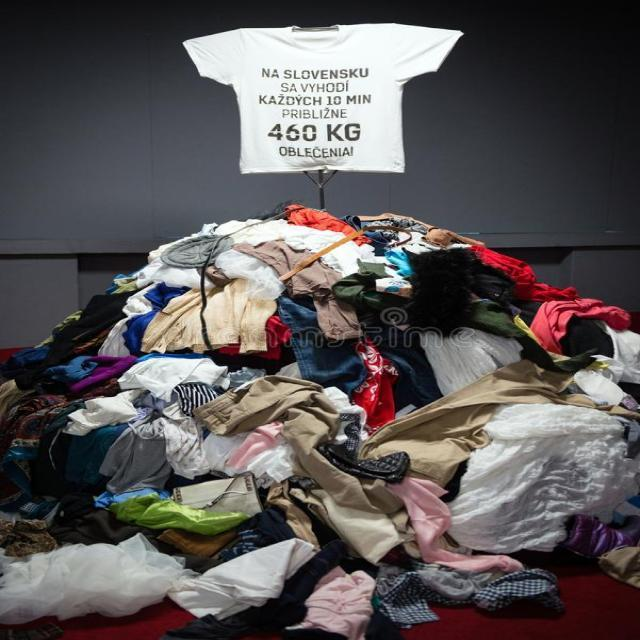clothes: (95, 224, 624, 614)
